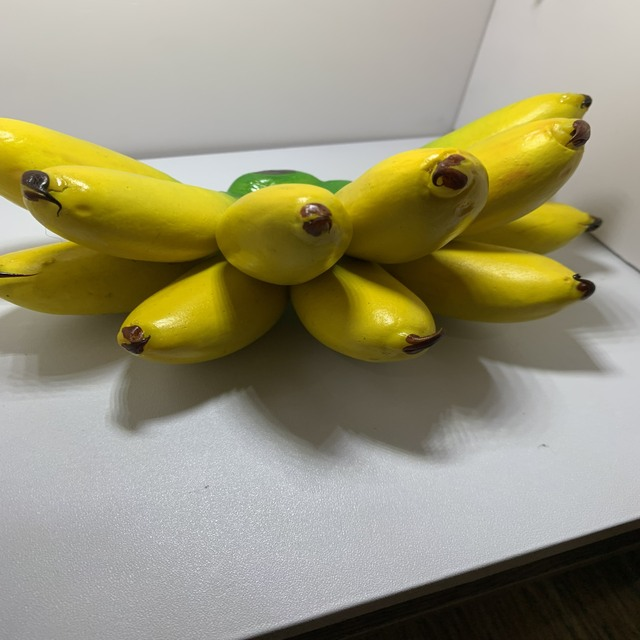Chuoi: (0, 86, 596, 375)
